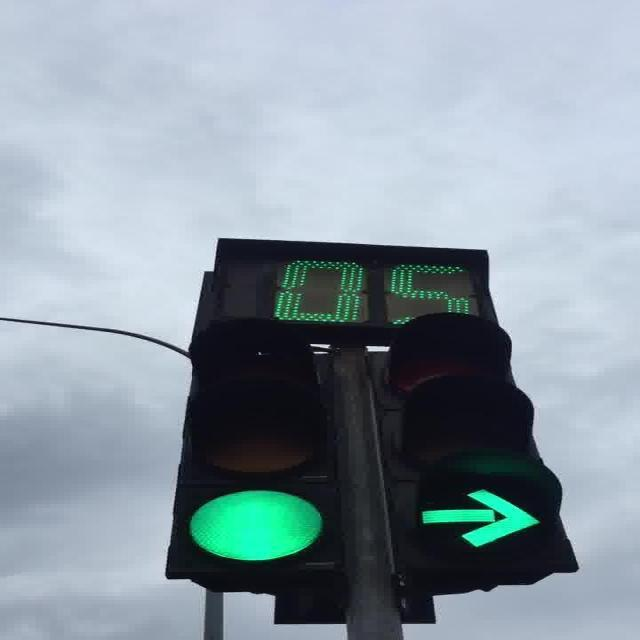green_light: (362, 312, 580, 574), (163, 317, 340, 578)
